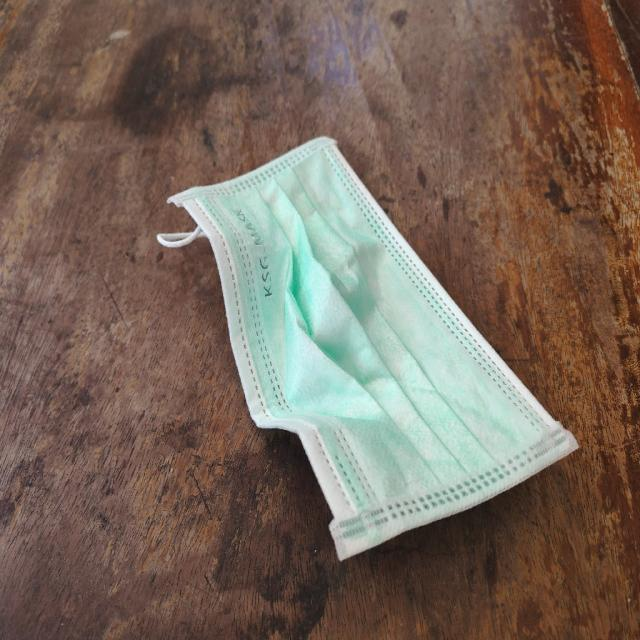non-organic waste: (166, 135, 583, 567)
